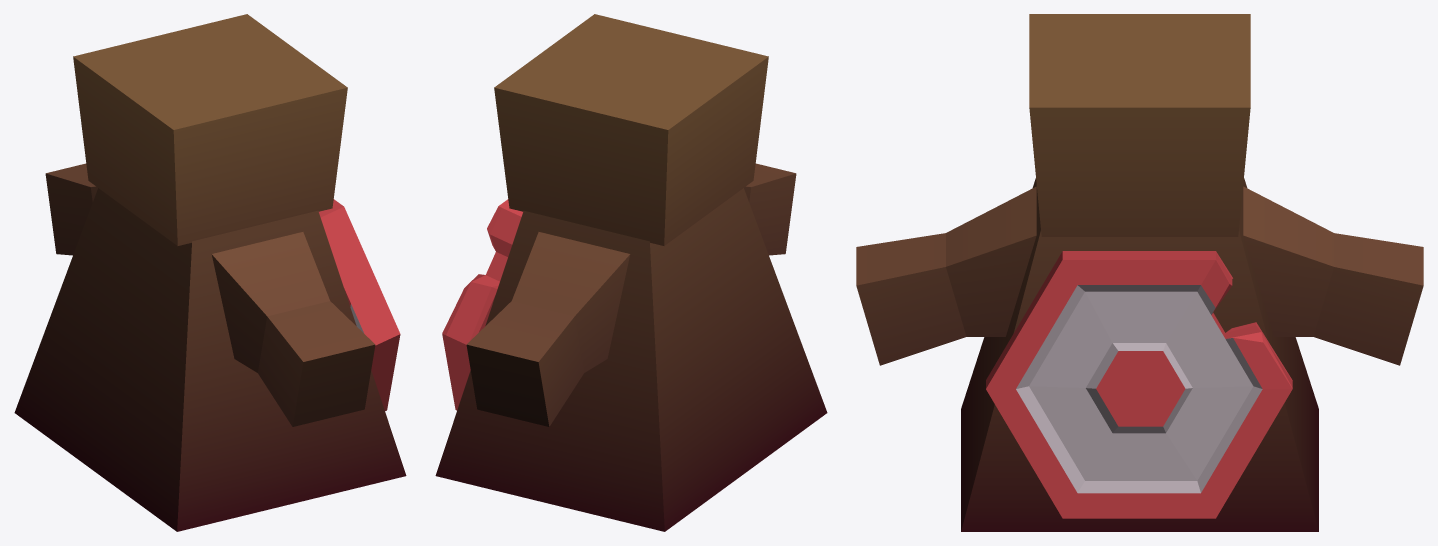
File: definitely tower 0.fbx
3 renders of one model, left to right at view 1: azimuth 30°, elevation 25°; view 2: azimuth 150°, elevation 25°; view 3: azimuth 270°, elevation 25°, orthographic. The views are drawn at different scales.
Visible parts, largest first — view 1: literary tower; view 2: literary tower; view 3: literary tower.
Part boxes in pixels (x1,y1,x2,y2): literary tower: (14,14,406,531); literary tower: (435,14,827,531); literary tower: (856,14,1423,531).
Size of the model in its own units: 127 by 177 by 222.
